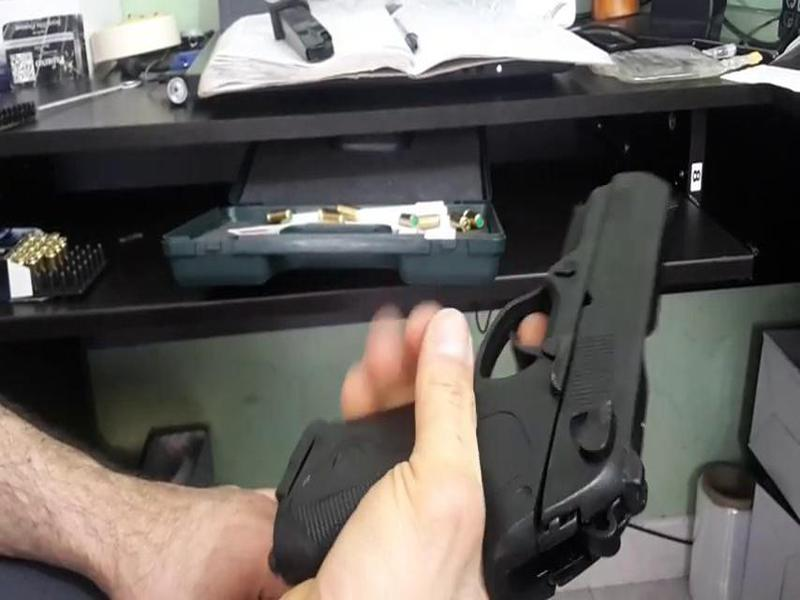Pistola: (476, 160, 685, 566)
